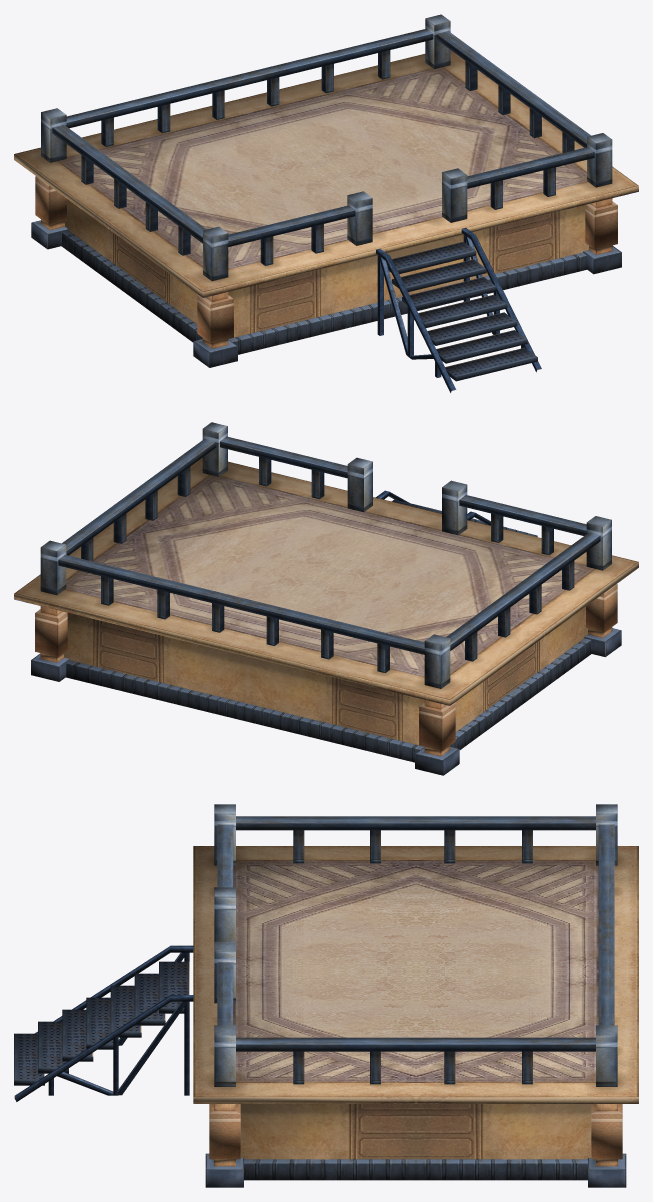
The model's file is a_SWEpform01.glb.
3 renders of one model, top to bottom at view 1: azimuth 30°, elevation 25°; view 2: azimuth 150°, elevation 25°; view 3: azimuth 270°, elevation 25°, orthographic. The views are drawn at different scales.
Parts seen in each view (by area): view 1: a_SWEpform01; view 2: a_SWEpform01; view 3: a_SWEpform01.
Boxes of the visible parts, bbox=[...] form: a_SWEpform01: bbox=[14, 14, 638, 392]; a_SWEpform01: bbox=[14, 422, 638, 775]; a_SWEpform01: bbox=[14, 804, 638, 1187].
Size of the model in its own units: 8 by 2.33 by 8.41.
Materials: 1 (1 with a texture image).
